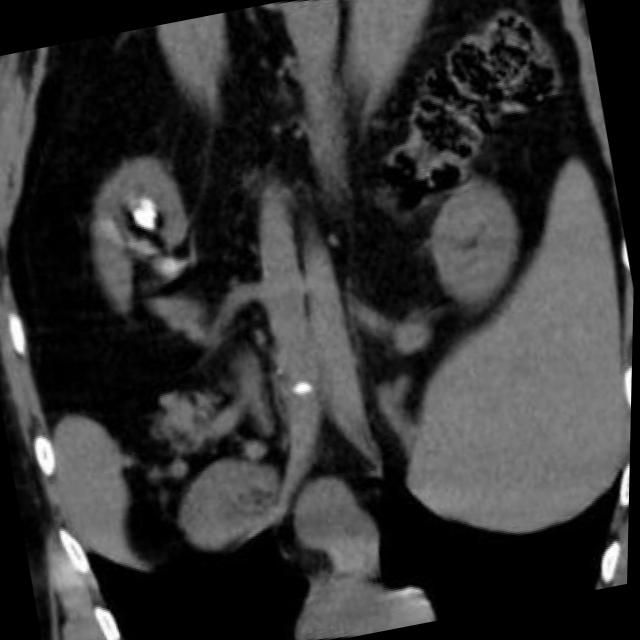Tas_Var: (132, 208, 156, 232), (144, 206, 159, 222)
